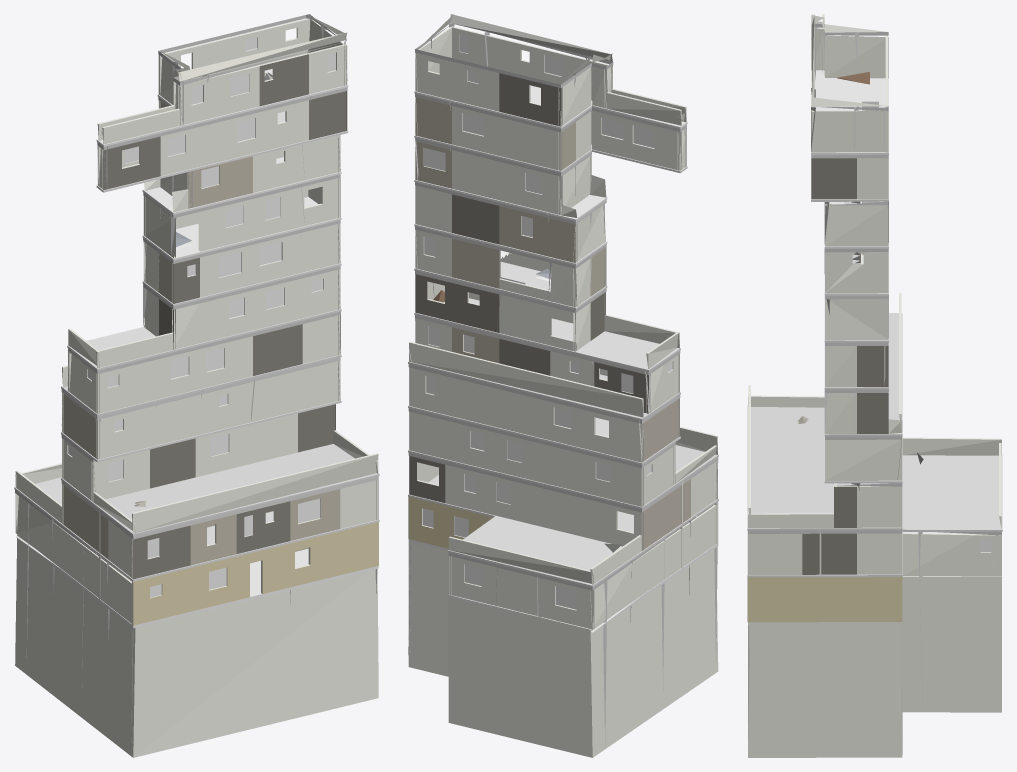
3 renders of one model, left to right at view 1: azimuth 30°, elevation 25°; view 2: azimuth 150°, elevation 25°; view 3: azimuth 270°, elevation 25°, orthographic. The views are drawn at different scales.
Parts seen in each view (by area): view 1: F_44; view 2: F_44; view 3: F_44.
Part boxes in pixels (bbox=[...]): F_44: bbox=[14, 14, 379, 757]; F_44: bbox=[408, 14, 718, 757]; F_44: bbox=[747, 14, 1002, 757].
Size of the model in its own units: 16.06 by 40.04 by 14.06.
